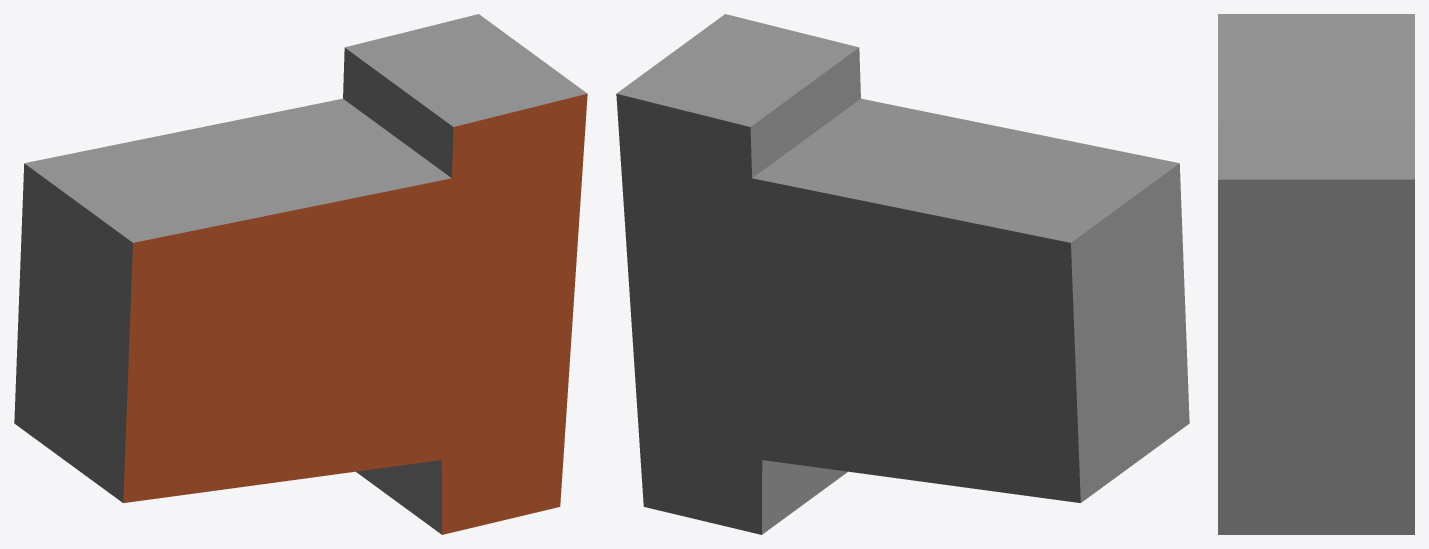
File: construction_7052_assumed_A_Casa_h6m.obj
3 renders of one model, left to right at view 1: azimuth 30°, elevation 25°; view 2: azimuth 150°, elevation 25°; view 3: azimuth 270°, elevation 25°, orthographic. The views are drawn at different scales.
Visible parts, largest first — view 1: construction_7052_assumed_A_Casa; view 2: construction_7052_assumed_A_Casa; view 3: construction_7052_assumed_A_Casa.
Part boxes in pixels (x1=…): construction_7052_assumed_A_Casa: x1=14, y1=14, x2=587, y2=534; construction_7052_assumed_A_Casa: x1=616, y1=14, x2=1189, y2=534; construction_7052_assumed_A_Casa: x1=1218, y1=14, x2=1414, y2=534.
Bounding box in the file's own units: 14.78 × 12.36 × 6.
